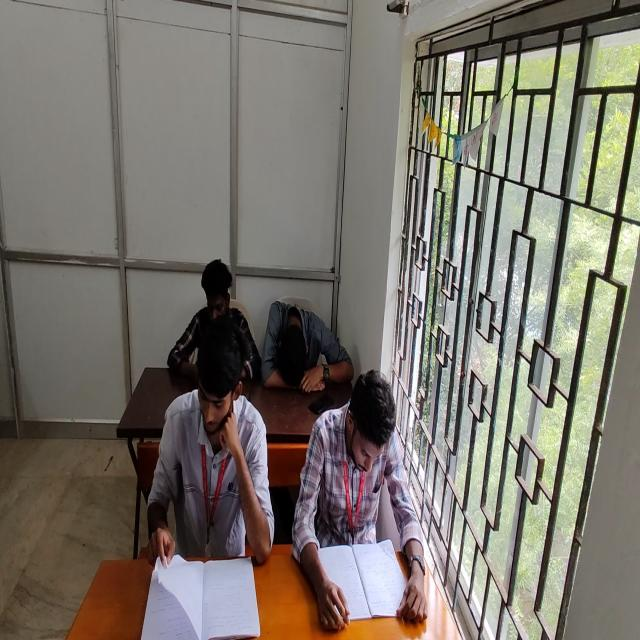reading: (146, 318, 275, 572), (302, 369, 421, 633)
sleeping: (264, 302, 352, 392)
using_mobile: (166, 258, 262, 384)
